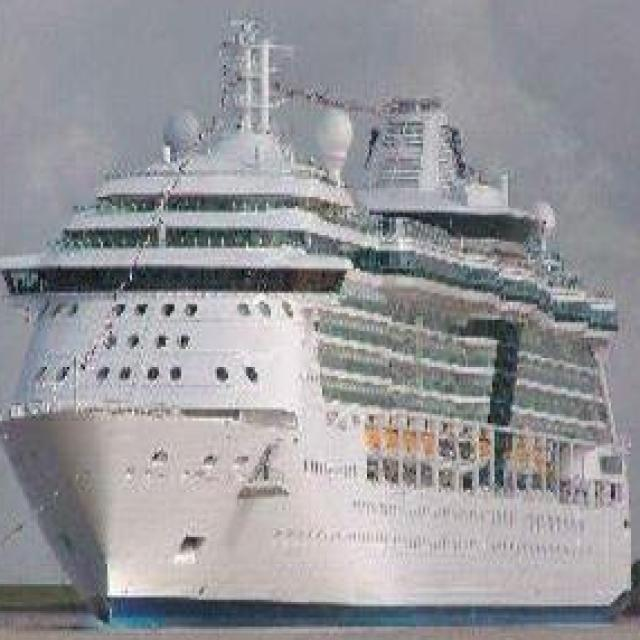passenger ship: (1, 18, 634, 630)
